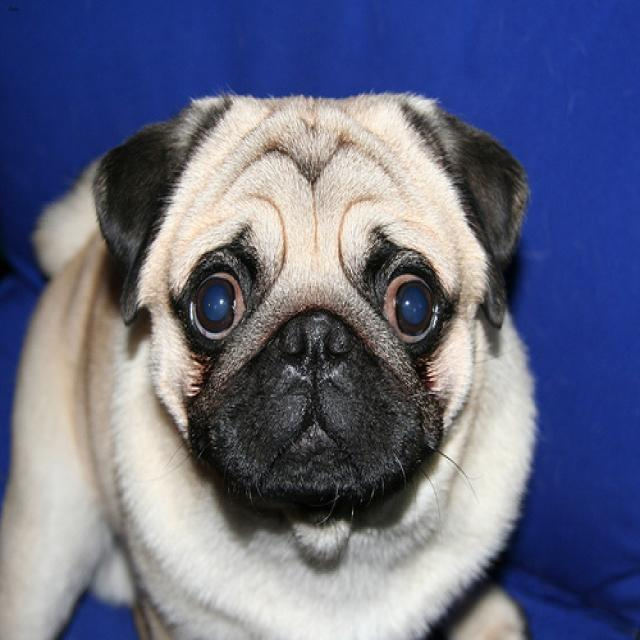dog-pug: (1, 84, 547, 637)
